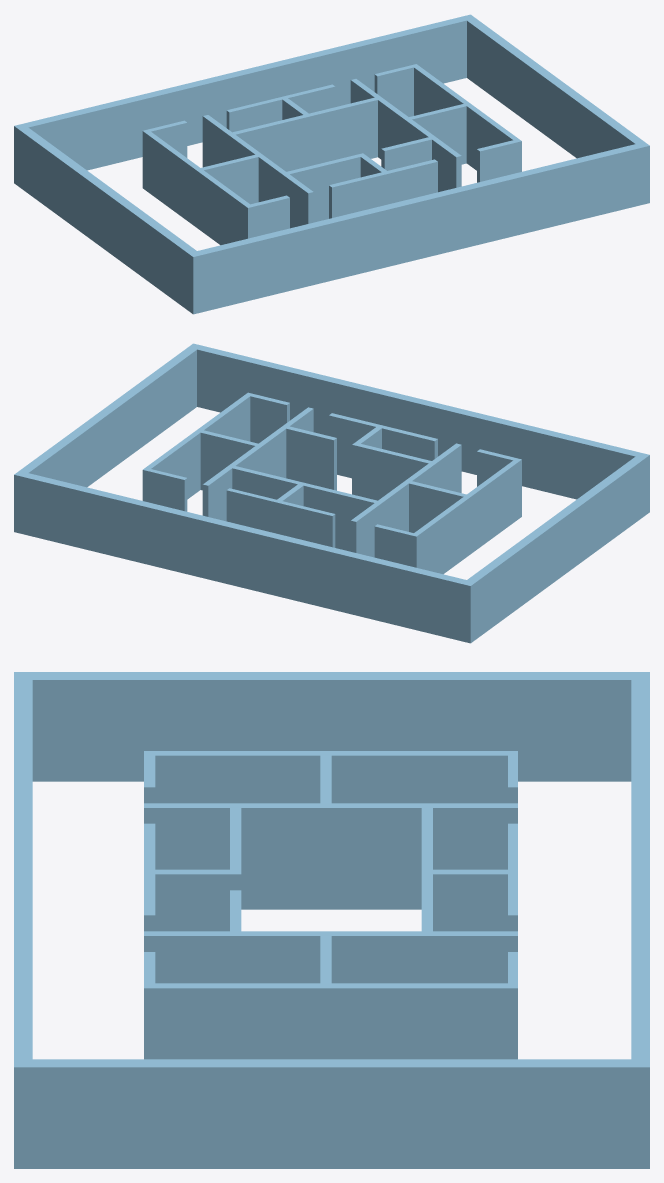
Rendered from exp_b.dae.
3 views of the same model, one above another, from view 1: azimuth 30°, elevation 25°; view 2: azimuth 150°, elevation 25°; view 3: azimuth 270°, elevation 25° (orthographic). The views are drawn at different scales.
Visible parts, largest first — view 1: 695528021b0dd596ae22bb1a (×2); view 2: 695528021b0dd596ae22bb1a (×2); view 3: 695528021b0dd596ae22bb1a (×2).
Part boxes in pixels (x1,y1,x2,y2): 695528021b0dd596ae22bb1a (×2): (14,14,649,314); 695528021b0dd596ae22bb1a (×2): (14,343,649,643); 695528021b0dd596ae22bb1a (×2): (14,672,649,1168).
Bounding box in the file's own units: 25 × 17 × 3.
